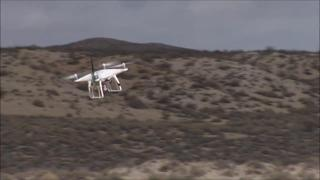UAV: (71, 62, 129, 100)
